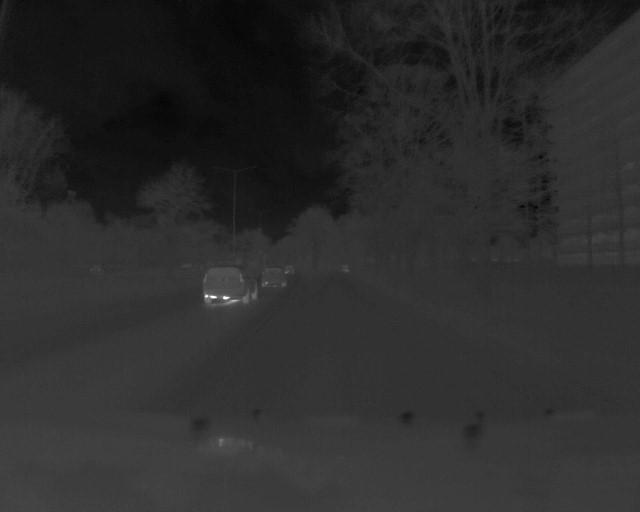car: (203, 260, 259, 309), (262, 263, 287, 289)
